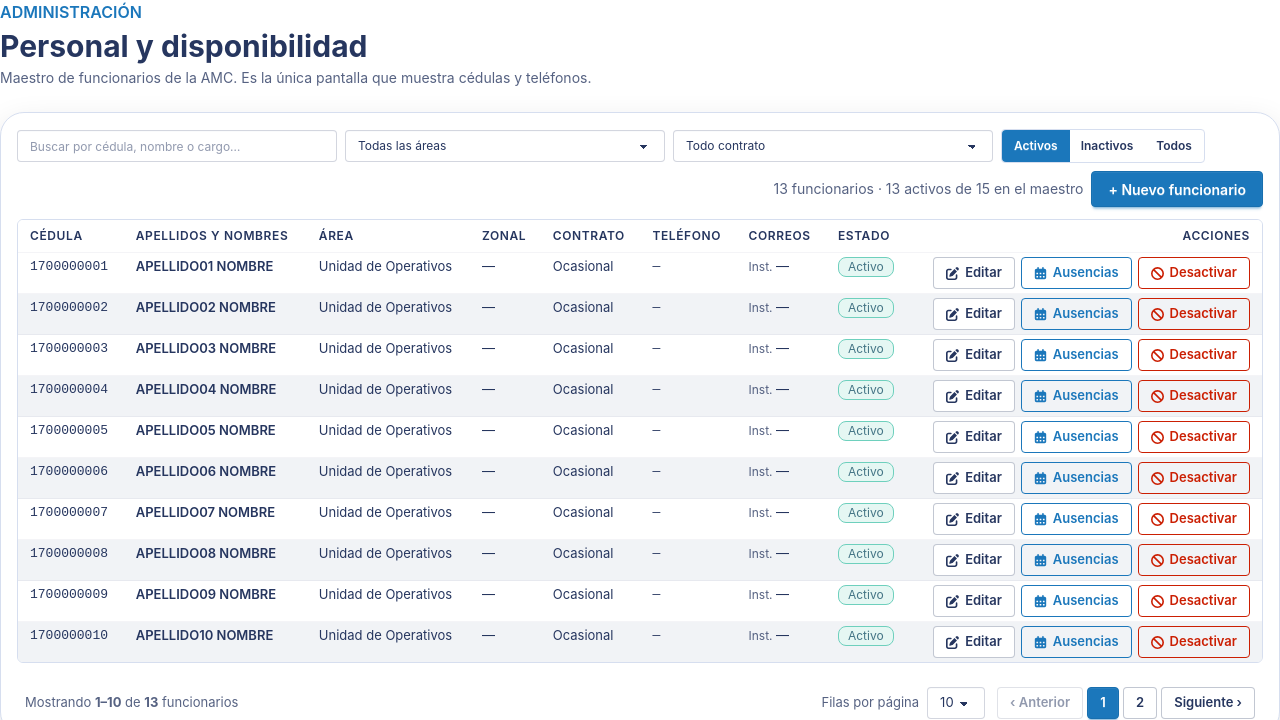
Test: P-07 · baja y reactivación con confirmación › «Desactivar» (visible en la fila) abre «¿Desactivar a NOMBRE?», exige el motivo y avisa al terminar
The image size is (1280, 720).
Expected: the text "13 funcionarios · 13 activos de 15 en el maestro" is shown, [773,179,1083,199]
Click the button with aria-label "Desactivar APELLIDO01 NOMBRE" at (1194, 273), box [1138,257,1250,289]
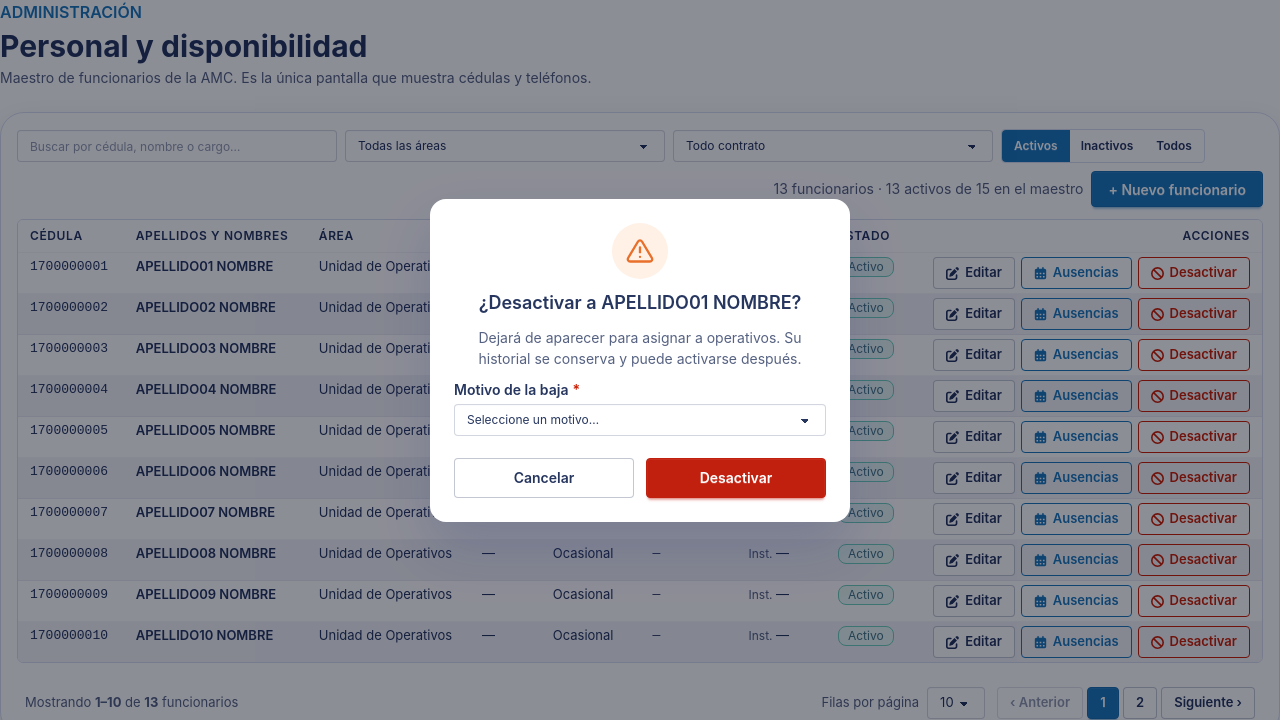
Result: the text "Su historial se conserva y puede activarse después" is shown at [478,328,802,366]
Select "Renuncia" in the dropdown labelled "Motivo de la baja" at (640, 420), box [454,404,826,436]
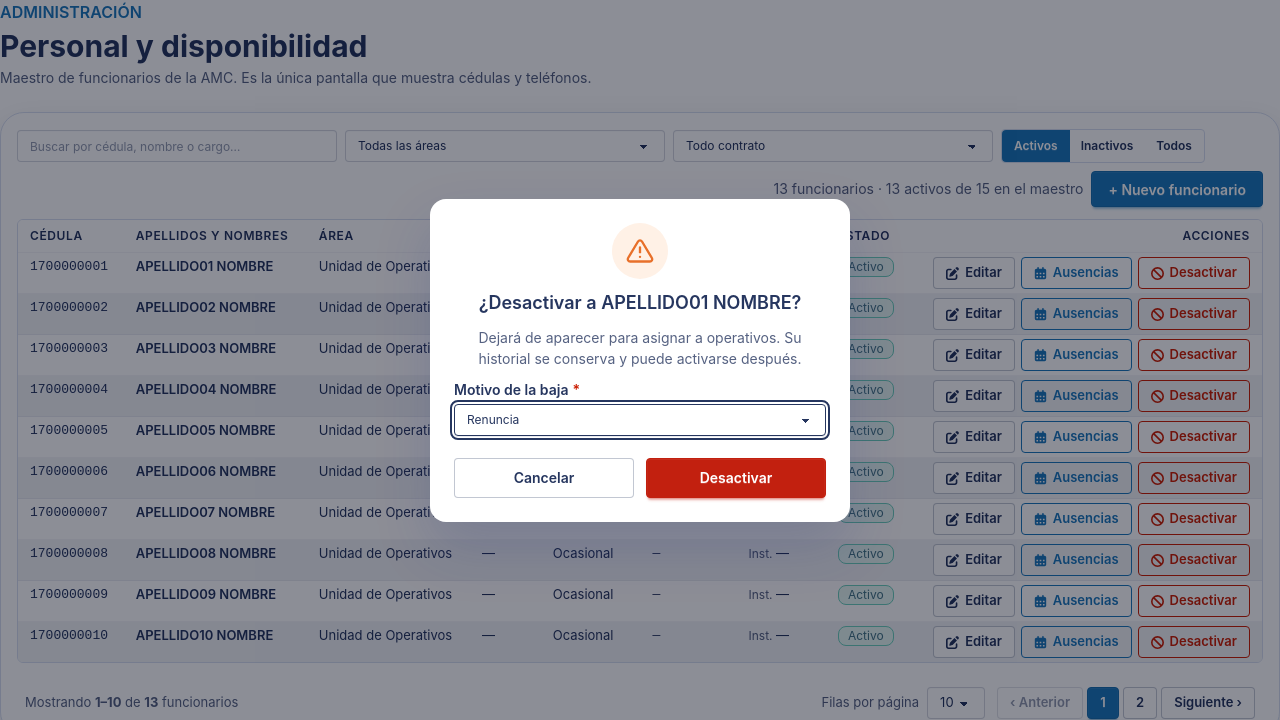
Click the button "Desactivar" at (736, 478), box [646,458,826,498]
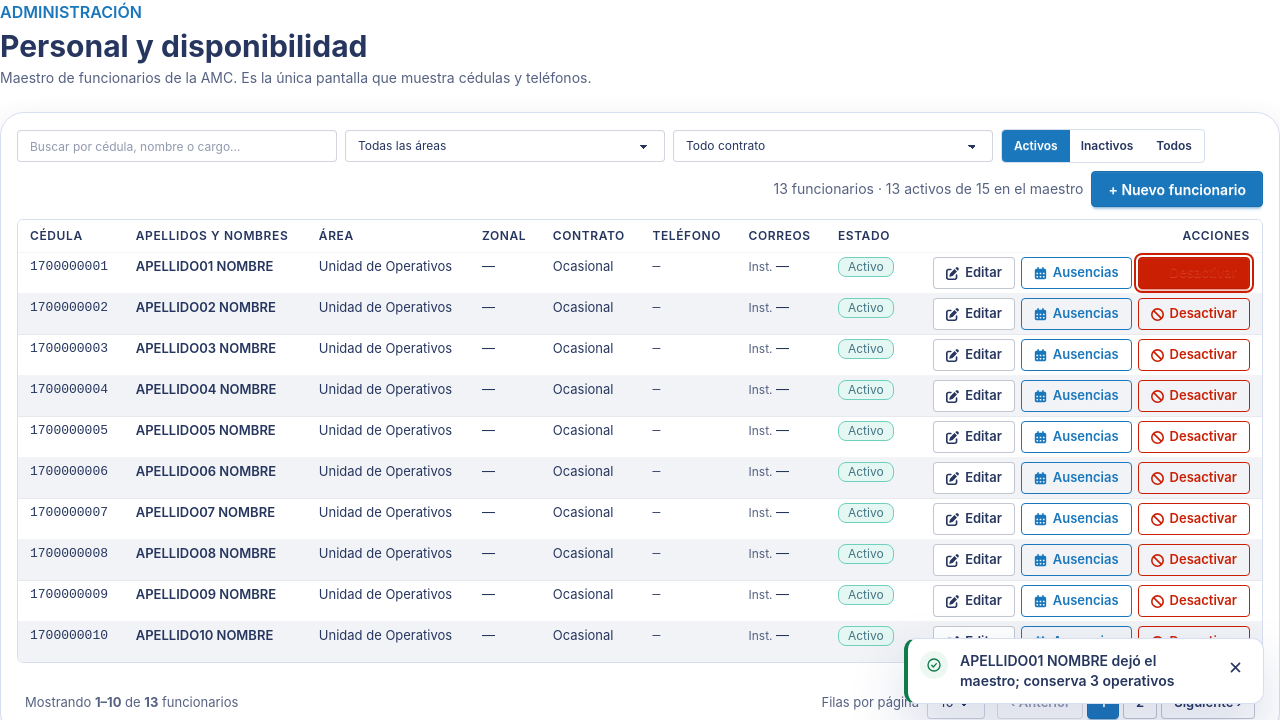
Result: the text "APELLIDO01 NOMBRE dejó el maestro; conserva 3 operativos" is shown at [960,651,1207,691]
